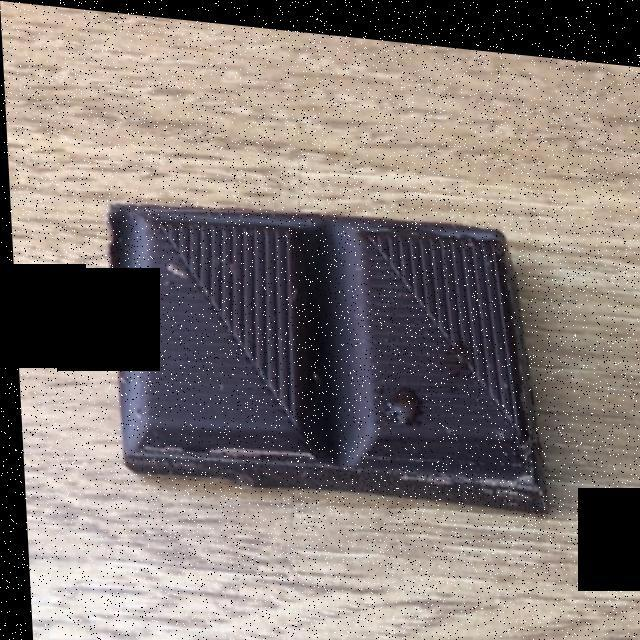chocolate: (111, 198, 536, 496)
